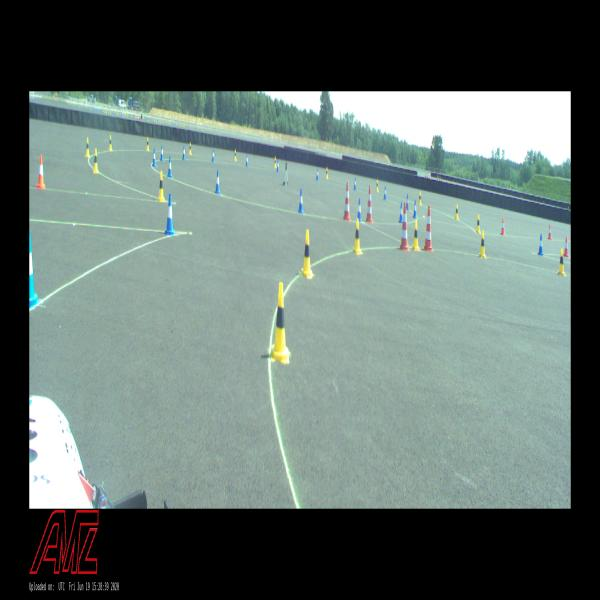blue_cone: (29, 230, 41, 309), (164, 194, 175, 235), (355, 198, 362, 221), (298, 188, 304, 214), (215, 170, 221, 194), (538, 234, 544, 256), (168, 157, 173, 178), (152, 147, 156, 167), (398, 203, 402, 222), (413, 200, 417, 219), (160, 145, 164, 161), (182, 146, 186, 161), (383, 186, 387, 200), (212, 149, 216, 162), (245, 154, 249, 167), (276, 160, 280, 172), (316, 168, 319, 181), (354, 178, 357, 190), (407, 194, 409, 210)
large_orange_cone: (398, 202, 410, 251), (422, 205, 434, 252), (365, 185, 374, 224), (343, 183, 351, 221)
orange_cone: (36, 155, 46, 189), (563, 236, 570, 258), (501, 218, 506, 235), (548, 224, 552, 240)
yellow_cone: (271, 282, 289, 363), (301, 230, 313, 278), (352, 218, 362, 255), (412, 221, 421, 251), (479, 231, 488, 259), (557, 248, 566, 276), (158, 171, 165, 201), (93, 148, 100, 173), (85, 138, 91, 157), (476, 215, 481, 234), (455, 204, 459, 220), (146, 137, 150, 151), (418, 192, 422, 205), (109, 135, 112, 151), (189, 142, 192, 155), (376, 179, 379, 192), (234, 149, 237, 161), (274, 157, 277, 168), (326, 167, 328, 179)
